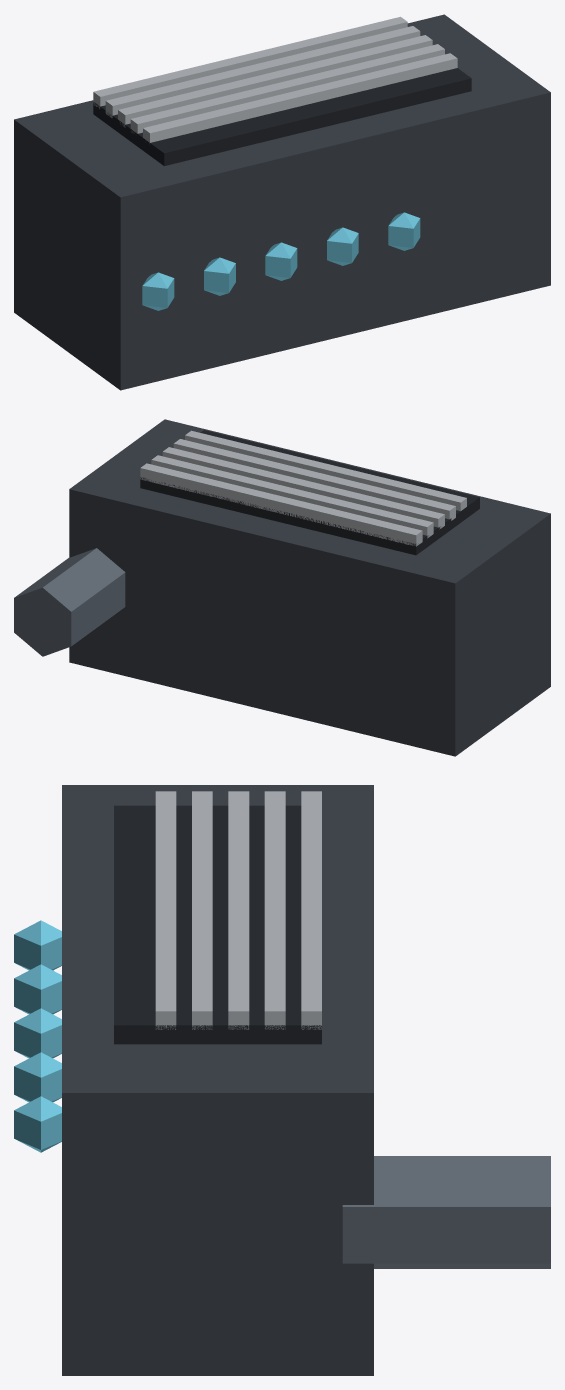
Rendered from droid-vocoder-exceptional.glb.
The picture shows the model from 3 angles, top to bottom: view 1: azimuth 30°, elevation 25°; view 2: azimuth 150°, elevation 25°; view 3: azimuth 270°, elevation 25°; orthographic projection. The views are drawn at different scales.
Parts seen in each view (by area): view 1: m; view 2: m; view 3: m.
Boxes of the visible parts, bbox=[...] form: m: bbox=[14, 14, 550, 390]; m: bbox=[14, 419, 550, 756]; m: bbox=[14, 785, 550, 1375].
Size of the model in its own units: 0.1 by 0.0484 by 0.0735.
